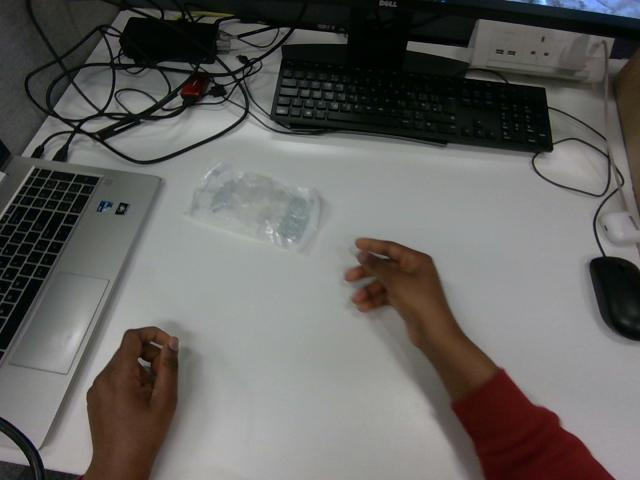gallipot: (188, 162, 319, 251)
